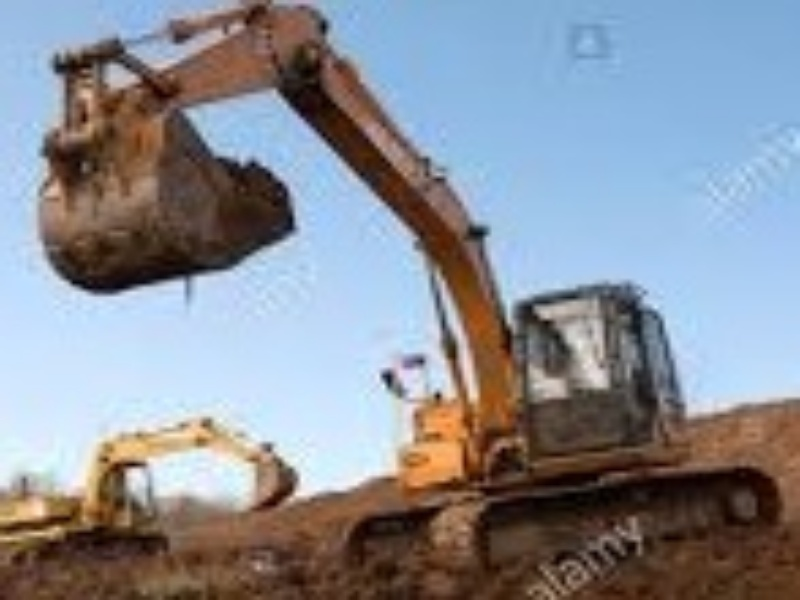wajueji: (362, 248, 782, 585), (6, 405, 305, 573)
